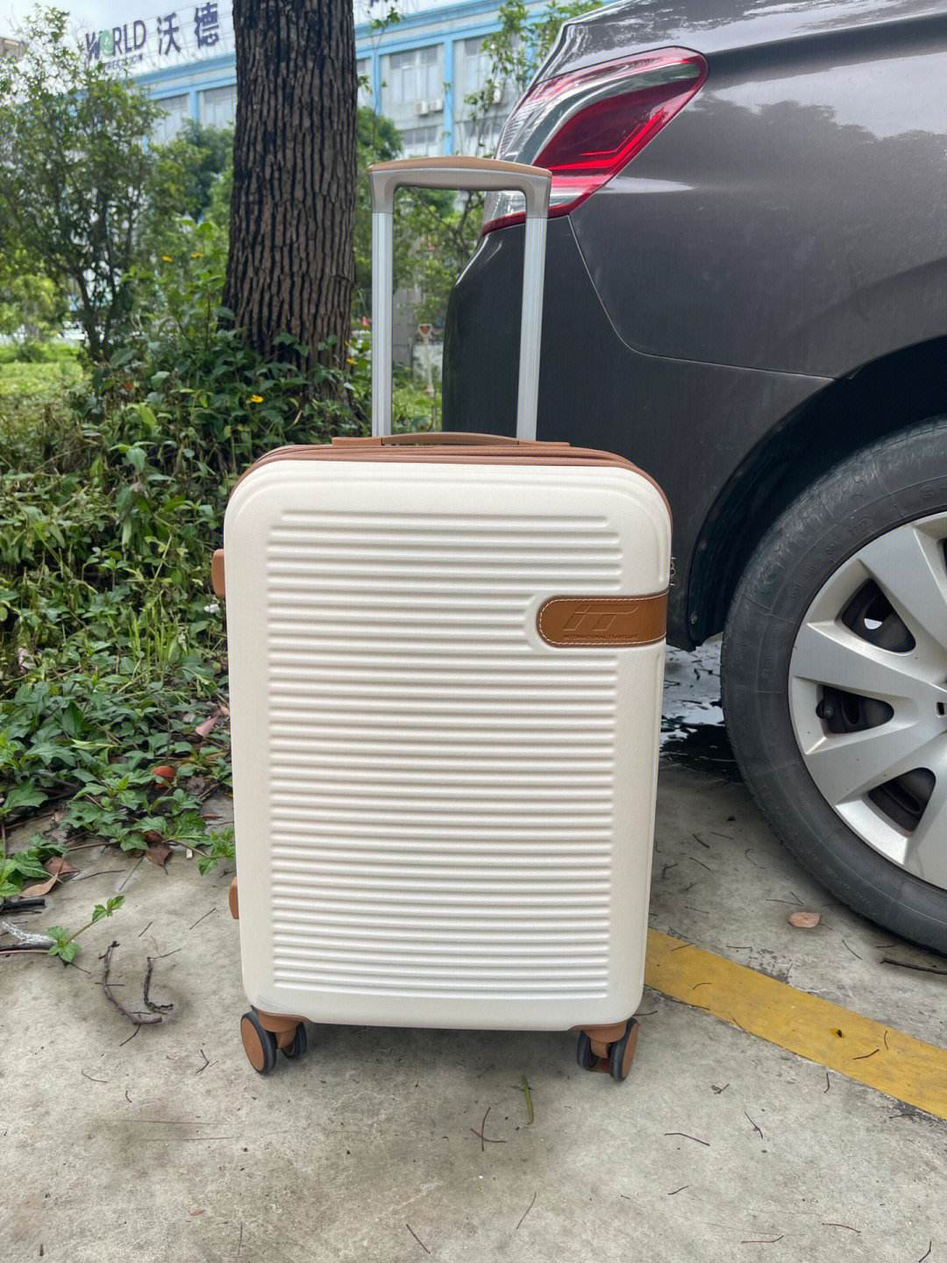box: (225, 441, 669, 1032)
handle: (330, 431, 568, 447)
wheel: (575, 1018, 641, 1089), (239, 1007, 307, 1075)
